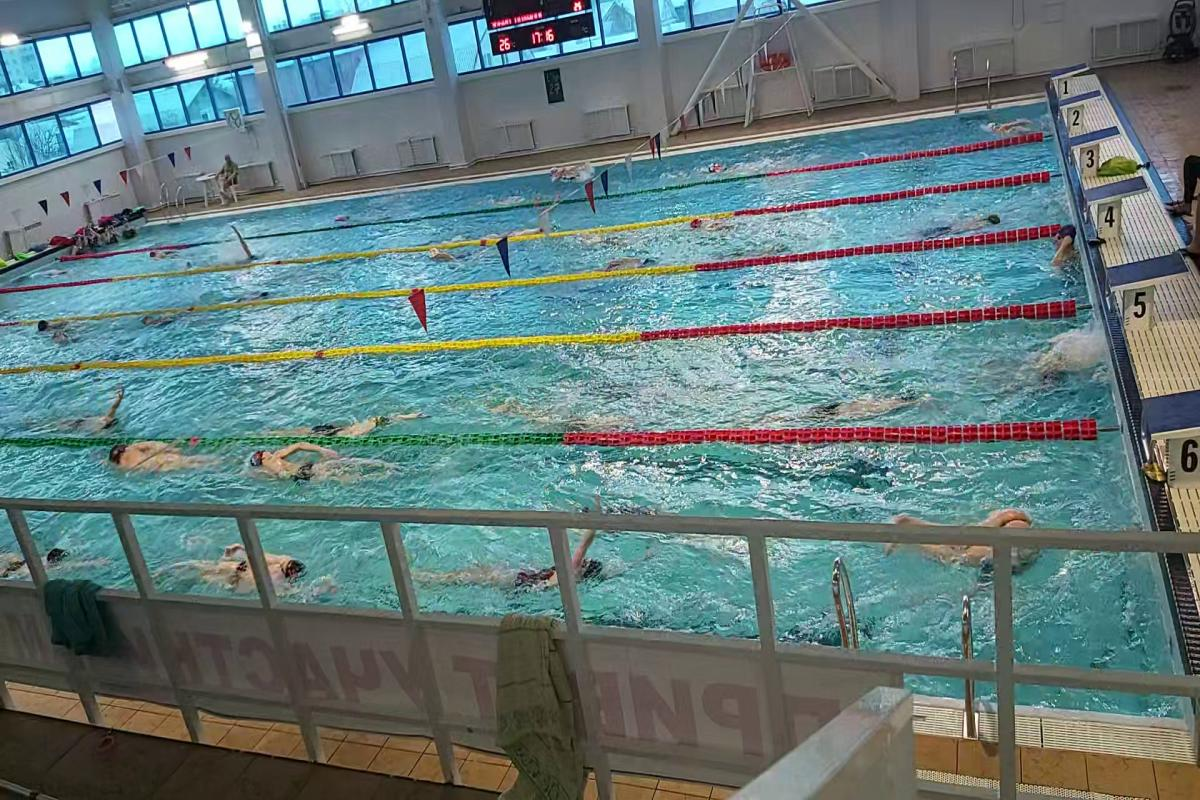swimmer: (448, 529, 628, 600), (193, 528, 339, 600), (246, 435, 390, 492), (807, 375, 944, 432), (107, 433, 223, 484), (0, 521, 96, 574), (40, 394, 143, 433), (282, 409, 432, 435), (916, 207, 1005, 231), (683, 203, 747, 236), (1046, 221, 1078, 277), (225, 223, 268, 264), (418, 239, 478, 264), (602, 253, 665, 272), (138, 310, 192, 329), (30, 314, 76, 332)
